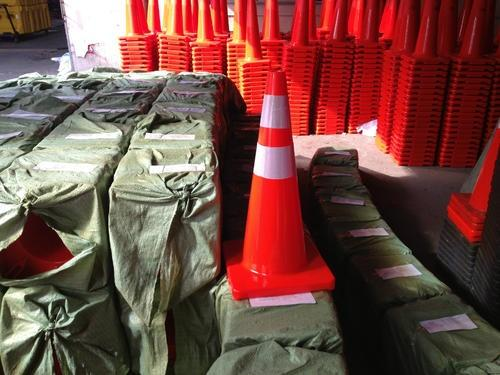cone_barrel: (235, 71, 318, 295), (237, 0, 261, 63), (259, 0, 282, 46)
